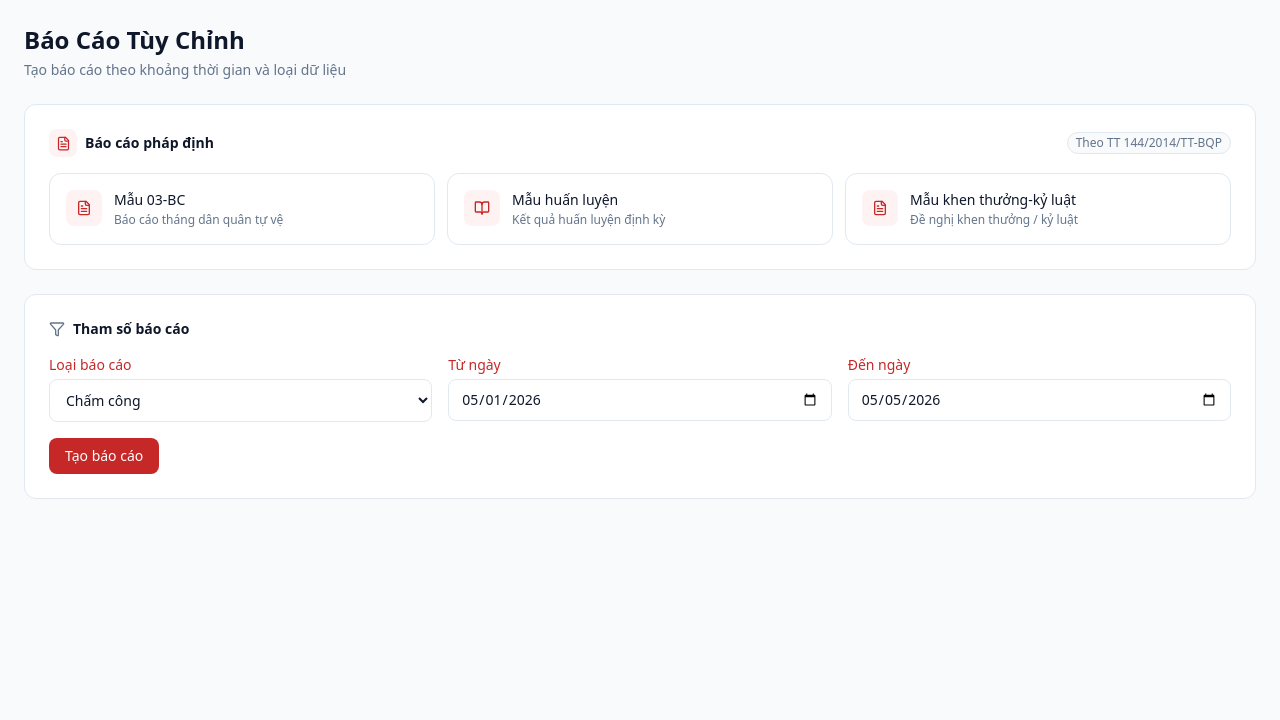
Scenario: CustomReportPage › renders report results after clicking generate
Click the button with test id "generate-btn": (104, 456) [49,438,159,474]
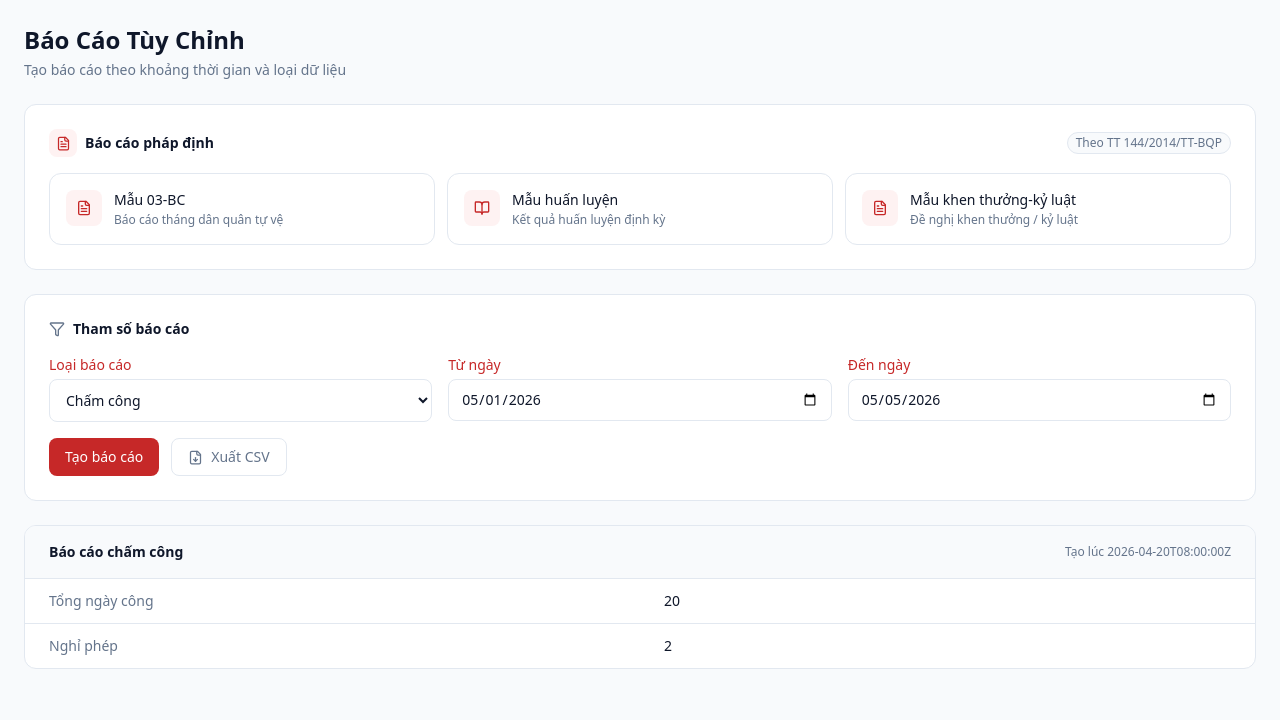
Expected: the text "Tổng ngày công" is shown, [25,579,640,624]
